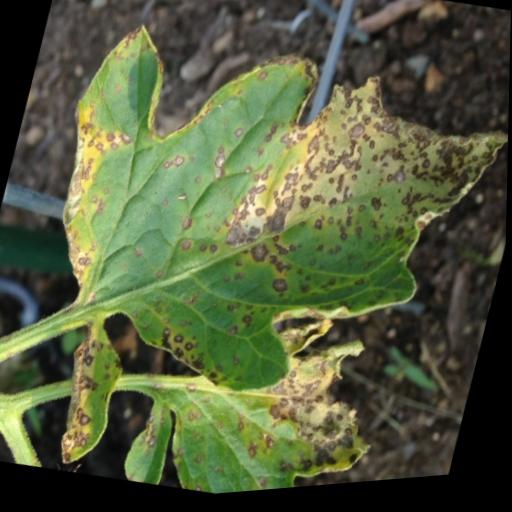Septoria: (0, 0, 512, 512), (115, 274, 412, 504)
